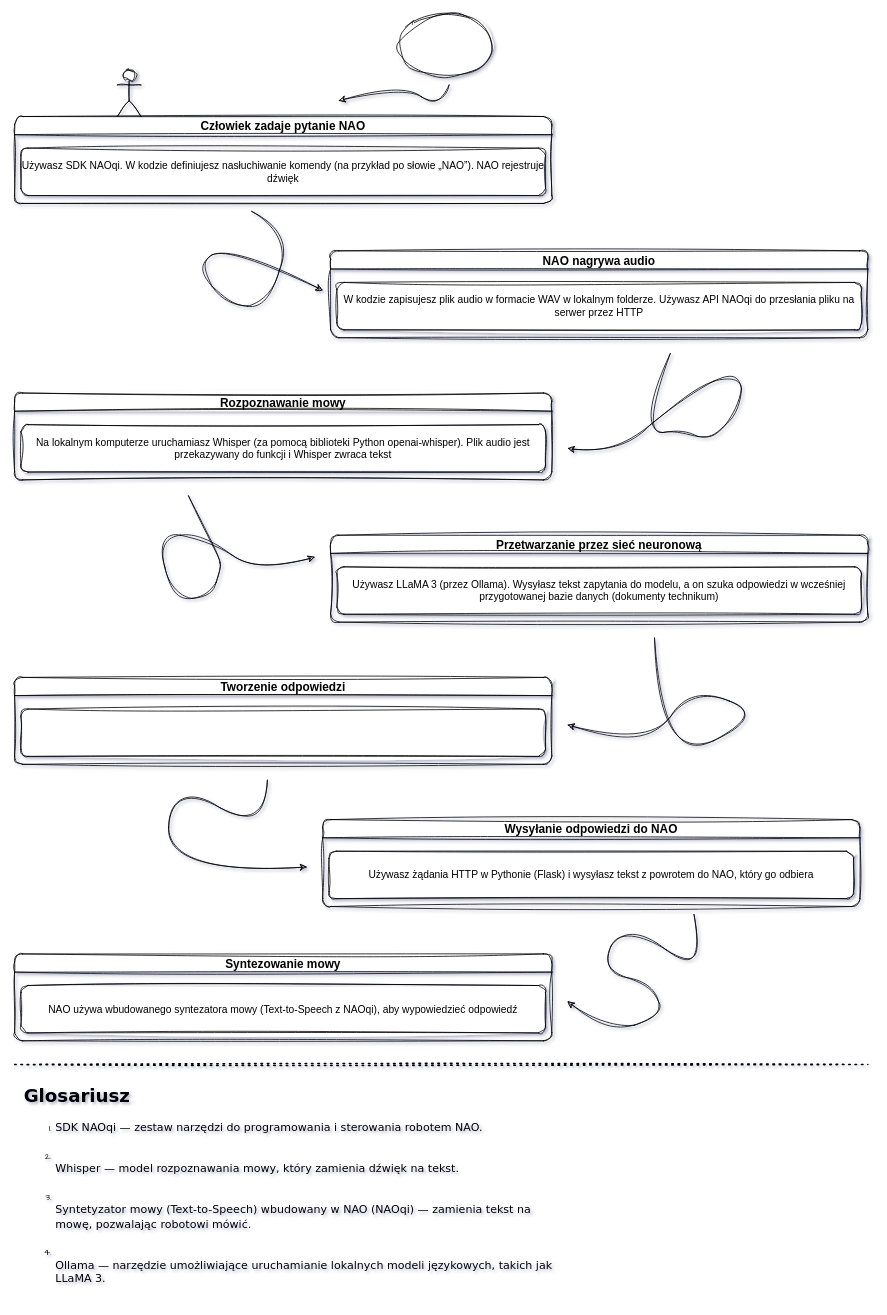
This 887x1315 diagram has some shape labels left out. The centre of each missing label's shape, as x and y in pixels:
Początek: (x=445, y=45)
Python zwraca tekst-odpowiedź z modelu, który zapisujesz w zmiennej: (x=282, y=732)
